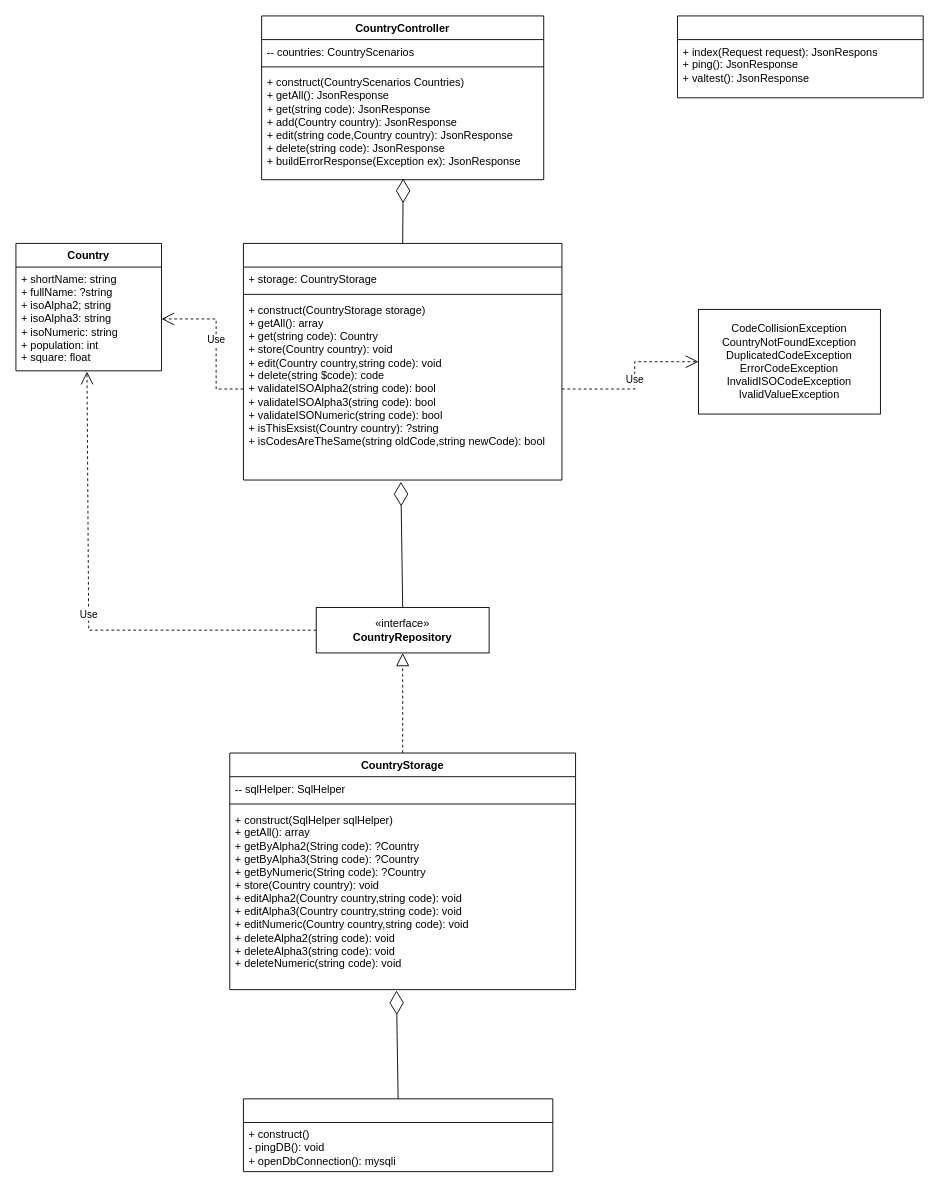
Some shapes in this 939 by 1190 pixel diagram are drawn without their labels. Here are the shapes that lost their labels. From the top down, the box of each, then its label:
(677, 15, 923, 98): RootController
(243, 243, 562, 480): CountryScenarios
(243, 1098, 553, 1172): SqlHelper
